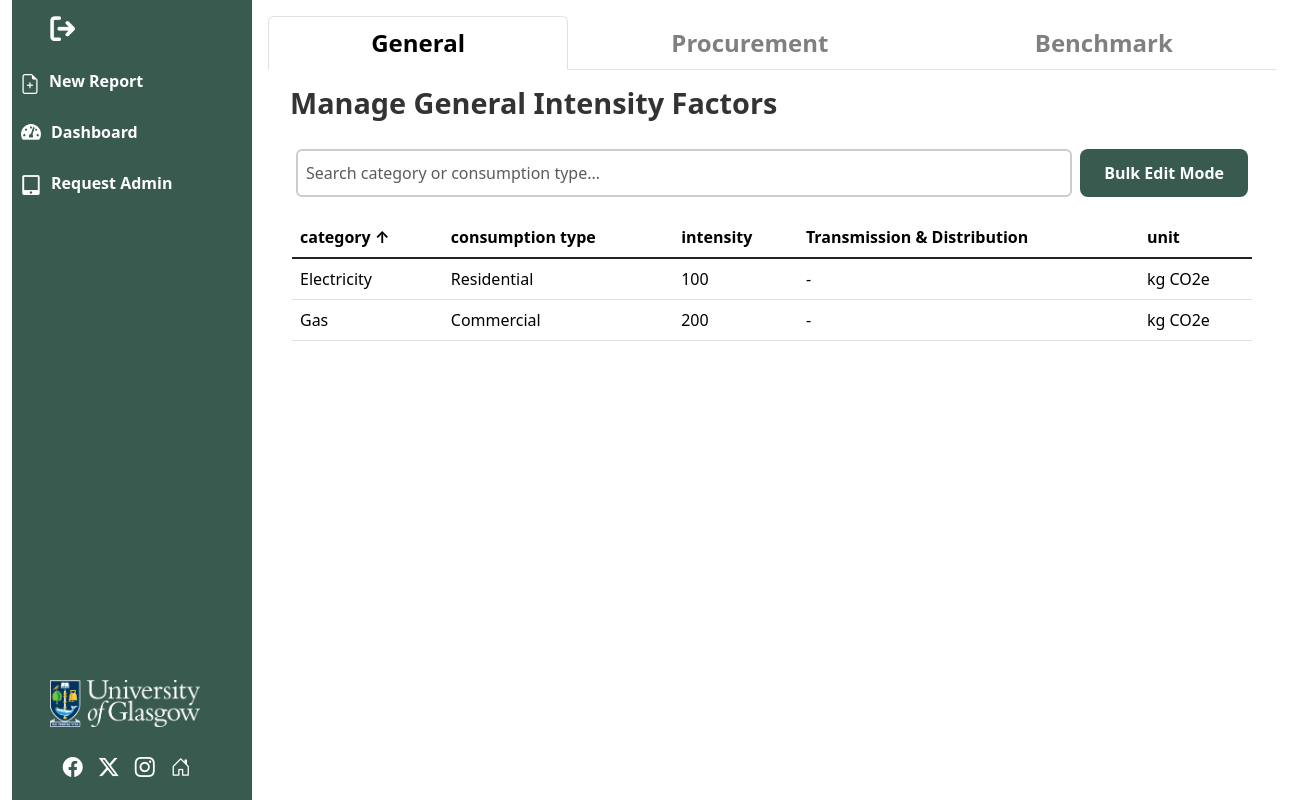
Test case: ManageFactors Component › opens and closes the Create modal
The image size is (1292, 800).
Step 1. Click the button "Bulk Edit Mode" → (1164, 172), box [1080, 148, 1248, 196]
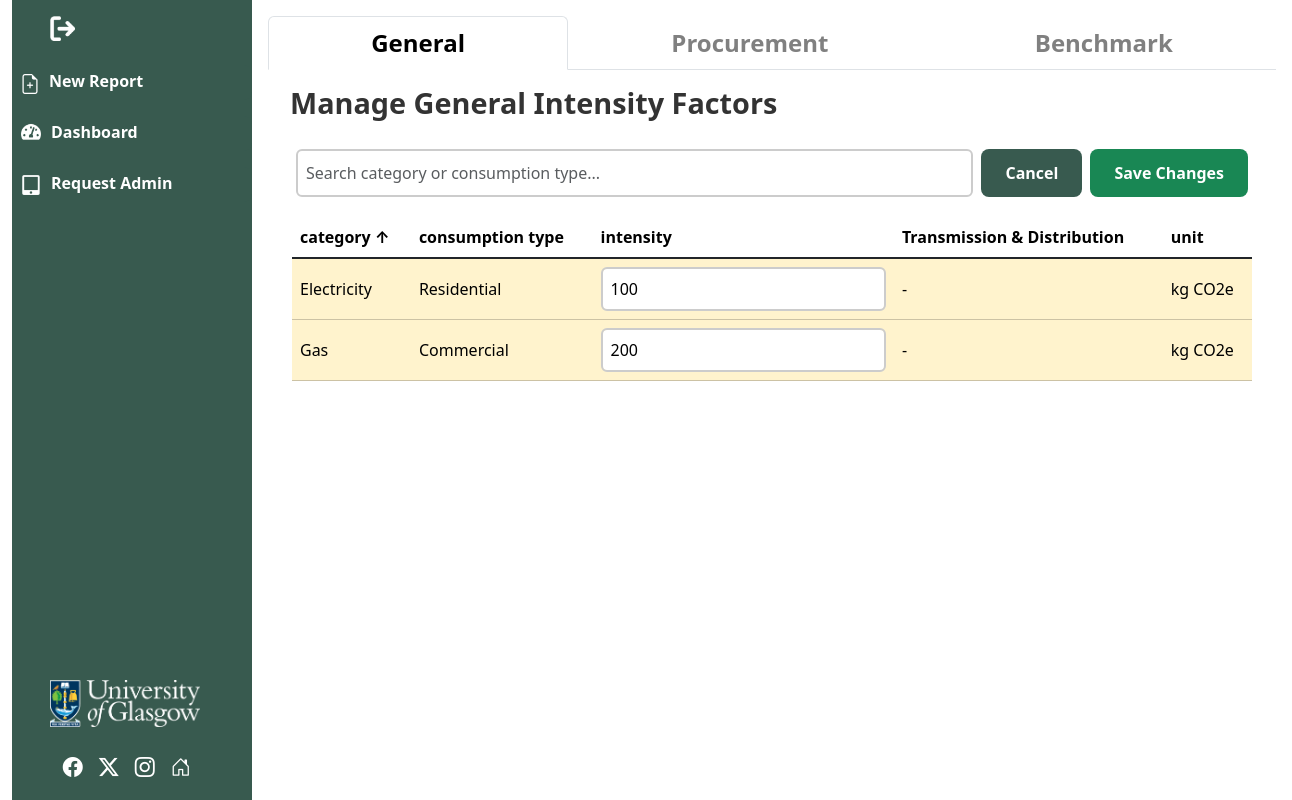
Expected: the button "Cancel" is shown, [981, 148, 1082, 196]
